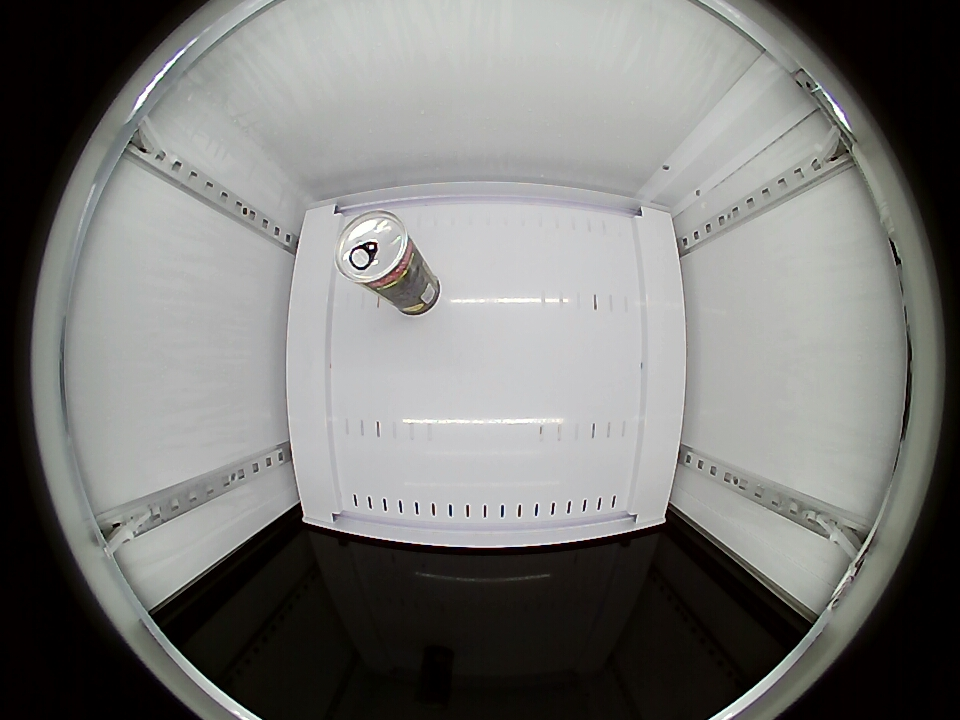yezhi: (334, 210, 420, 295)
